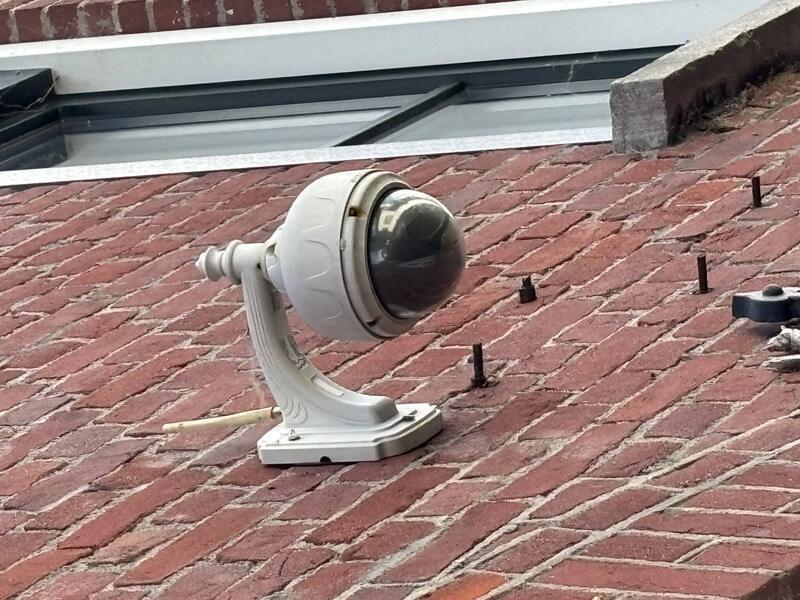dome: (260, 287, 433, 468)
